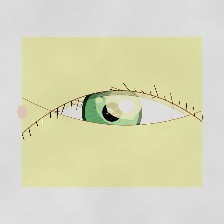corneal_ulcer: (94, 80, 154, 127)
